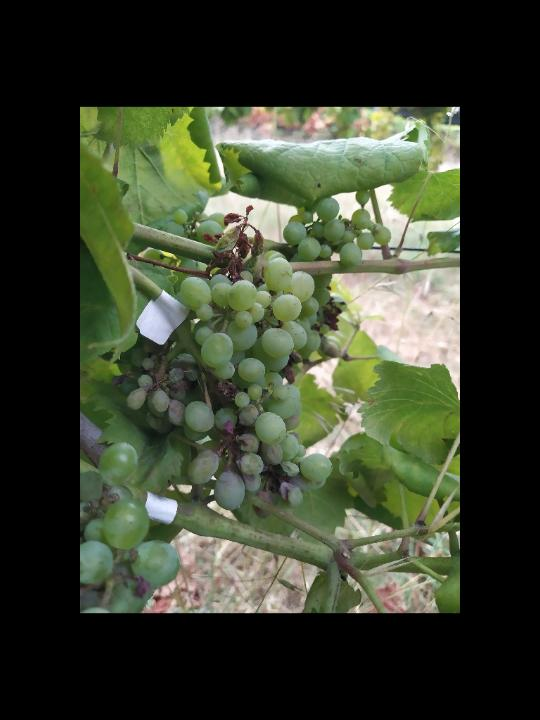grape: (125, 223, 338, 513)
